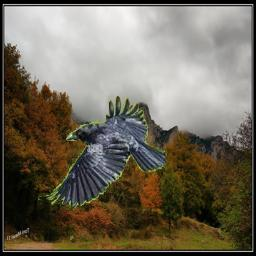Crow: (37, 95, 167, 210)
